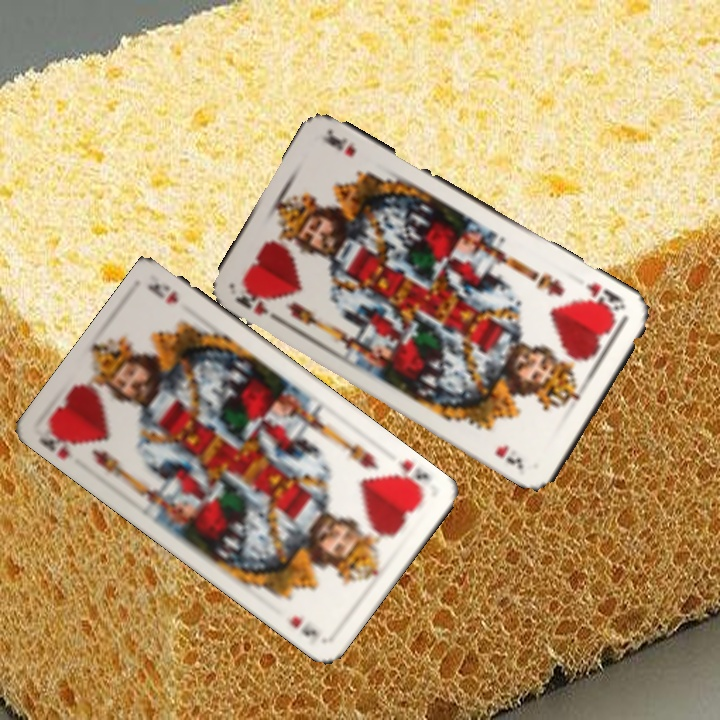HK: (231, 287, 286, 326), (35, 420, 84, 462), (390, 456, 432, 499), (582, 278, 628, 317)
